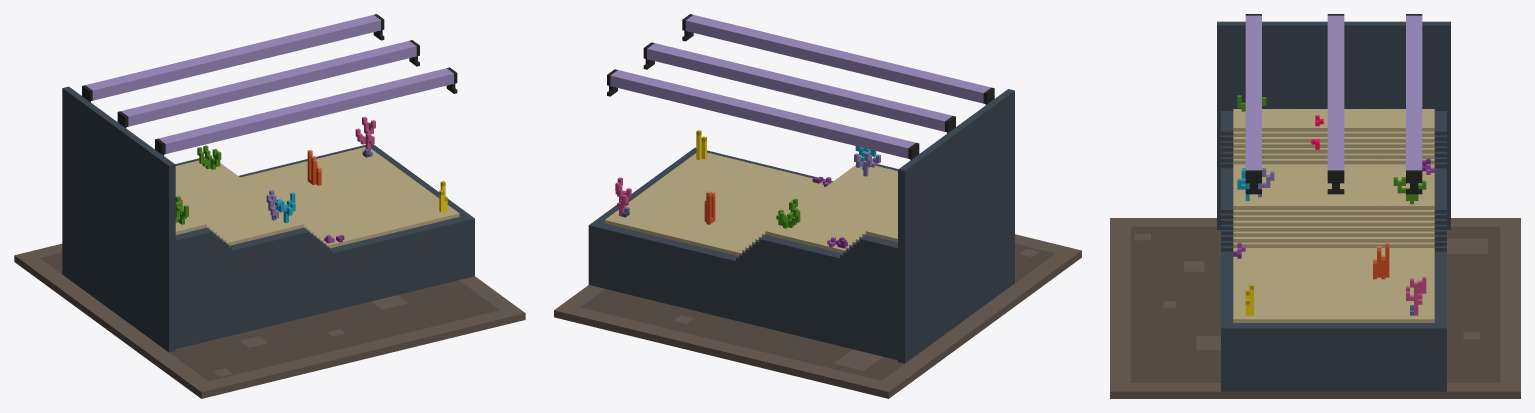
File: cangrejo5.obj
3 views of the same model, side by side, from view 1: azimuth 30°, elevation 25°; view 2: azimuth 150°, elevation 25°; view 3: azimuth 270°, elevation 25° (orthographic). The views are drawn at different scales.
Size of the model in its own units: 10 by 6 by 10.
